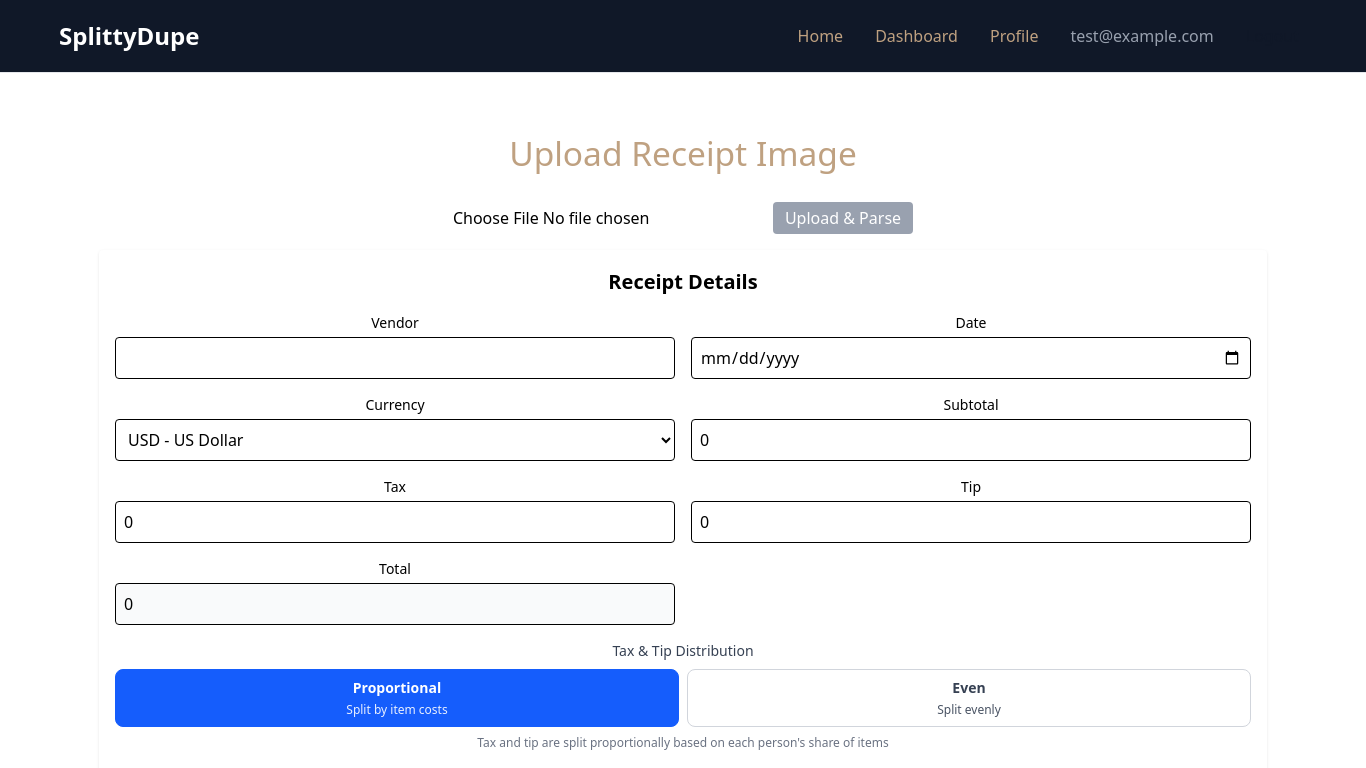
Home Page Integration Tests › should recalculate totals when financial fields change
expect the heading "Receipt Details" is shown: met, box [608,268,758,295]
Replace the text in the number field below "Subtotal" with "100" at (971, 440), box [691,419,1251,461]
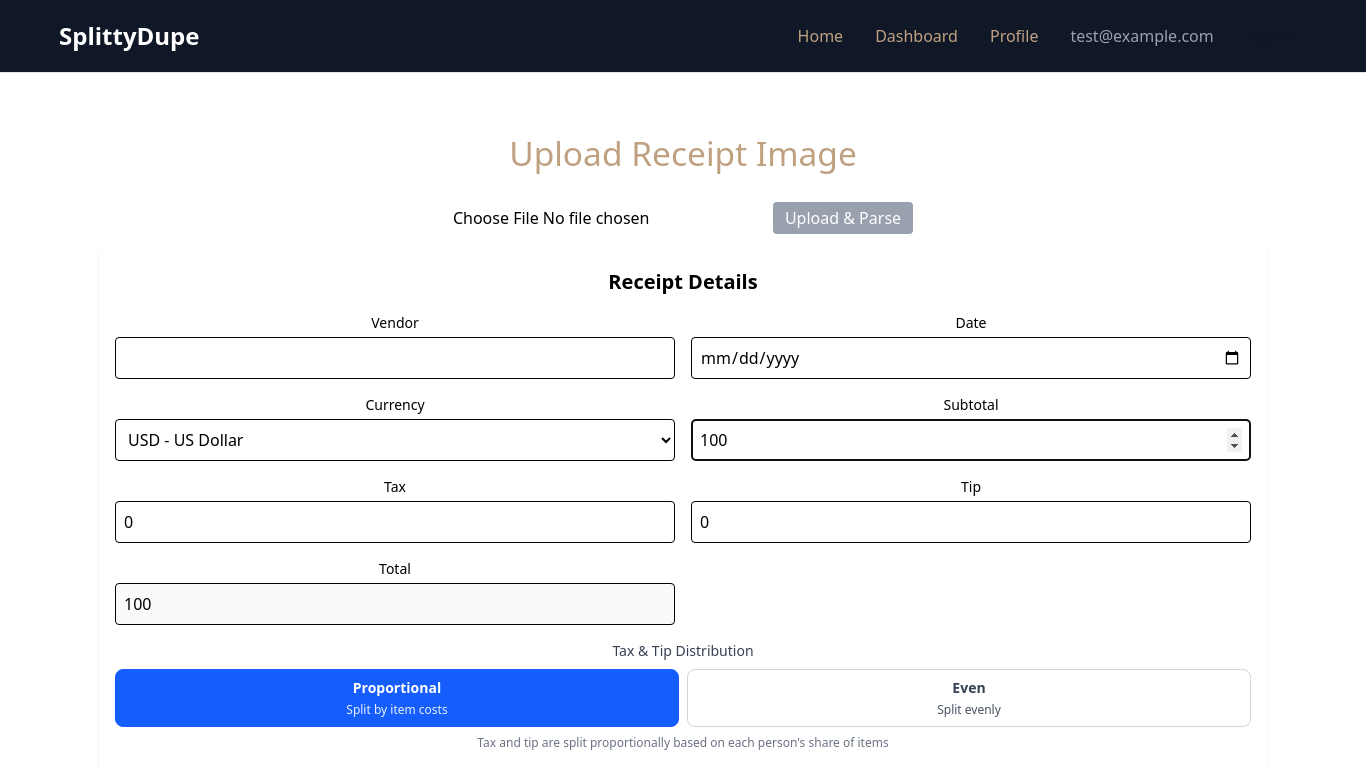
Replace the text in the 2nd number field with "8" at (395, 522), box [115,501,675,543]
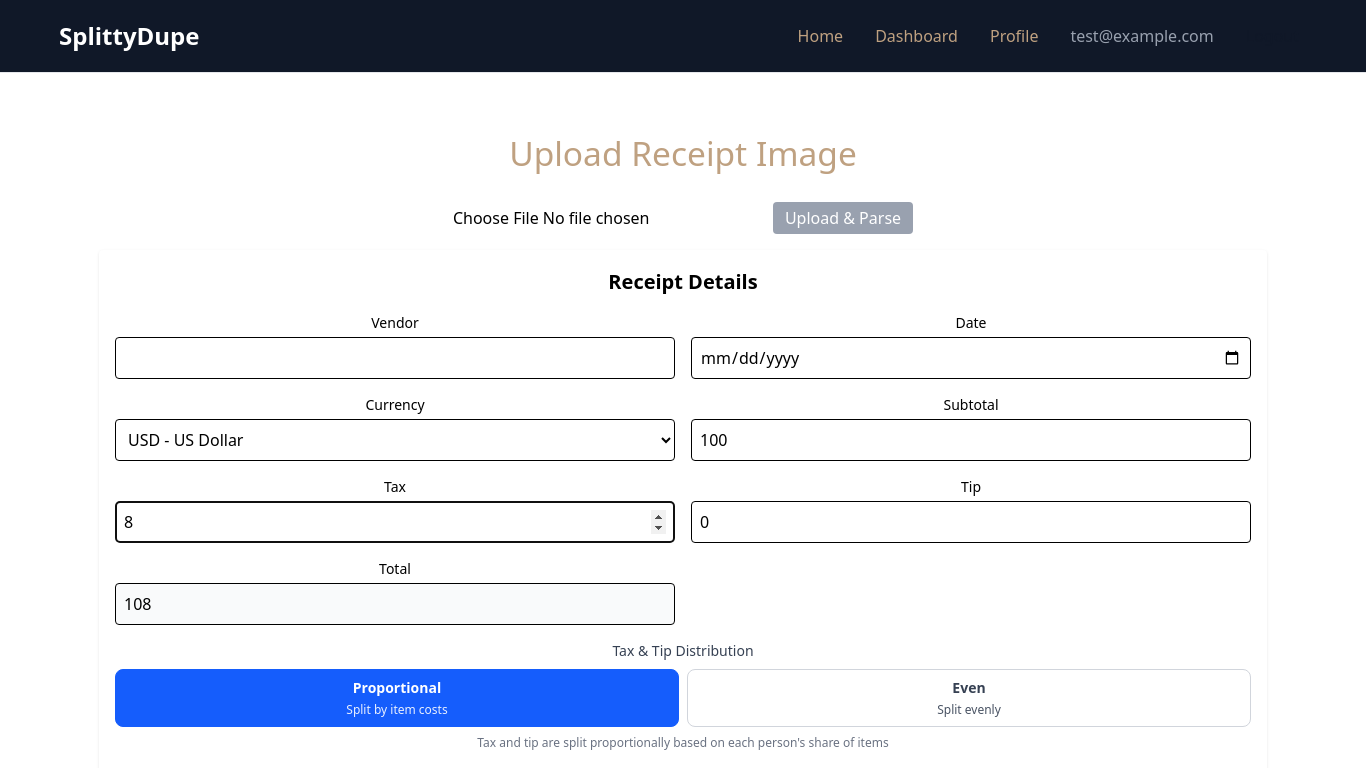
Replace the text in the 3rd number field with "15" at (971, 522), box [691,501,1251,543]
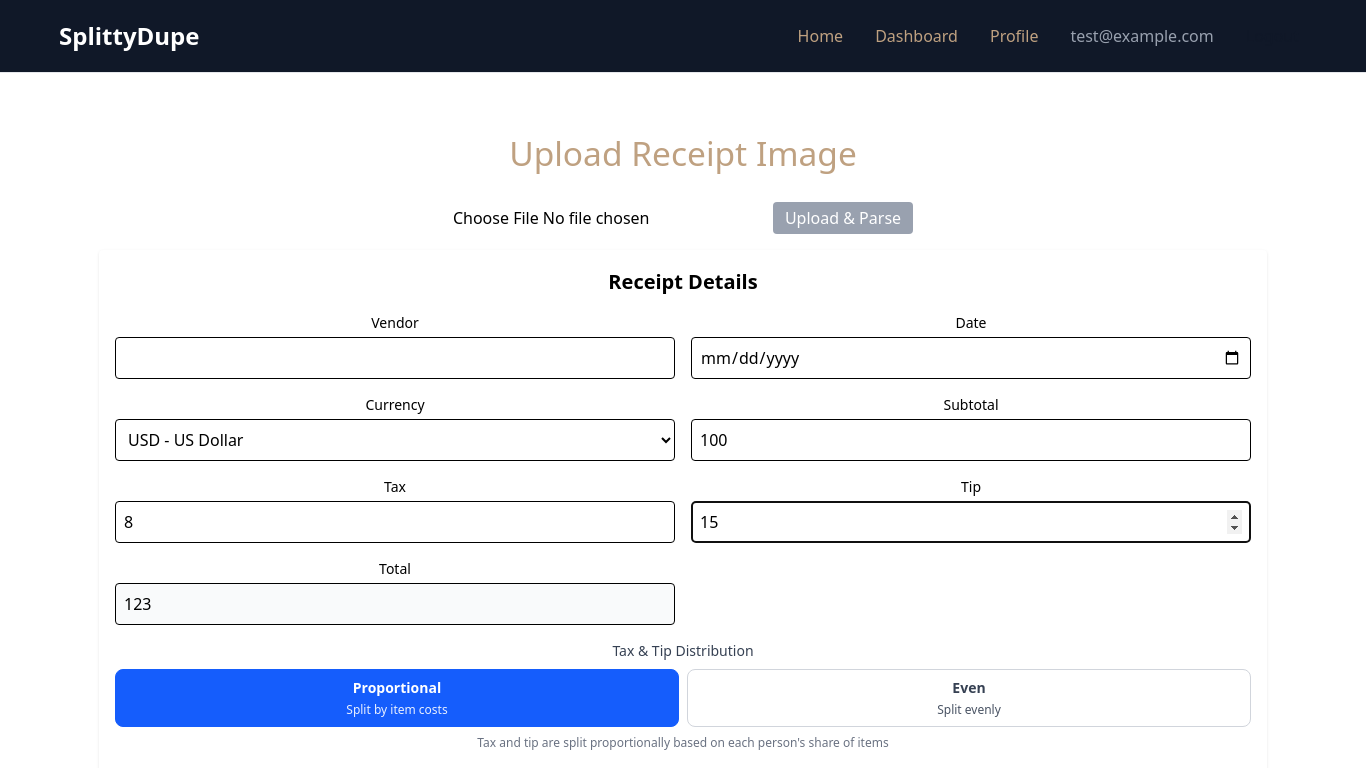
expect the 4th number field holds "123": met, box [115,583,675,625]
